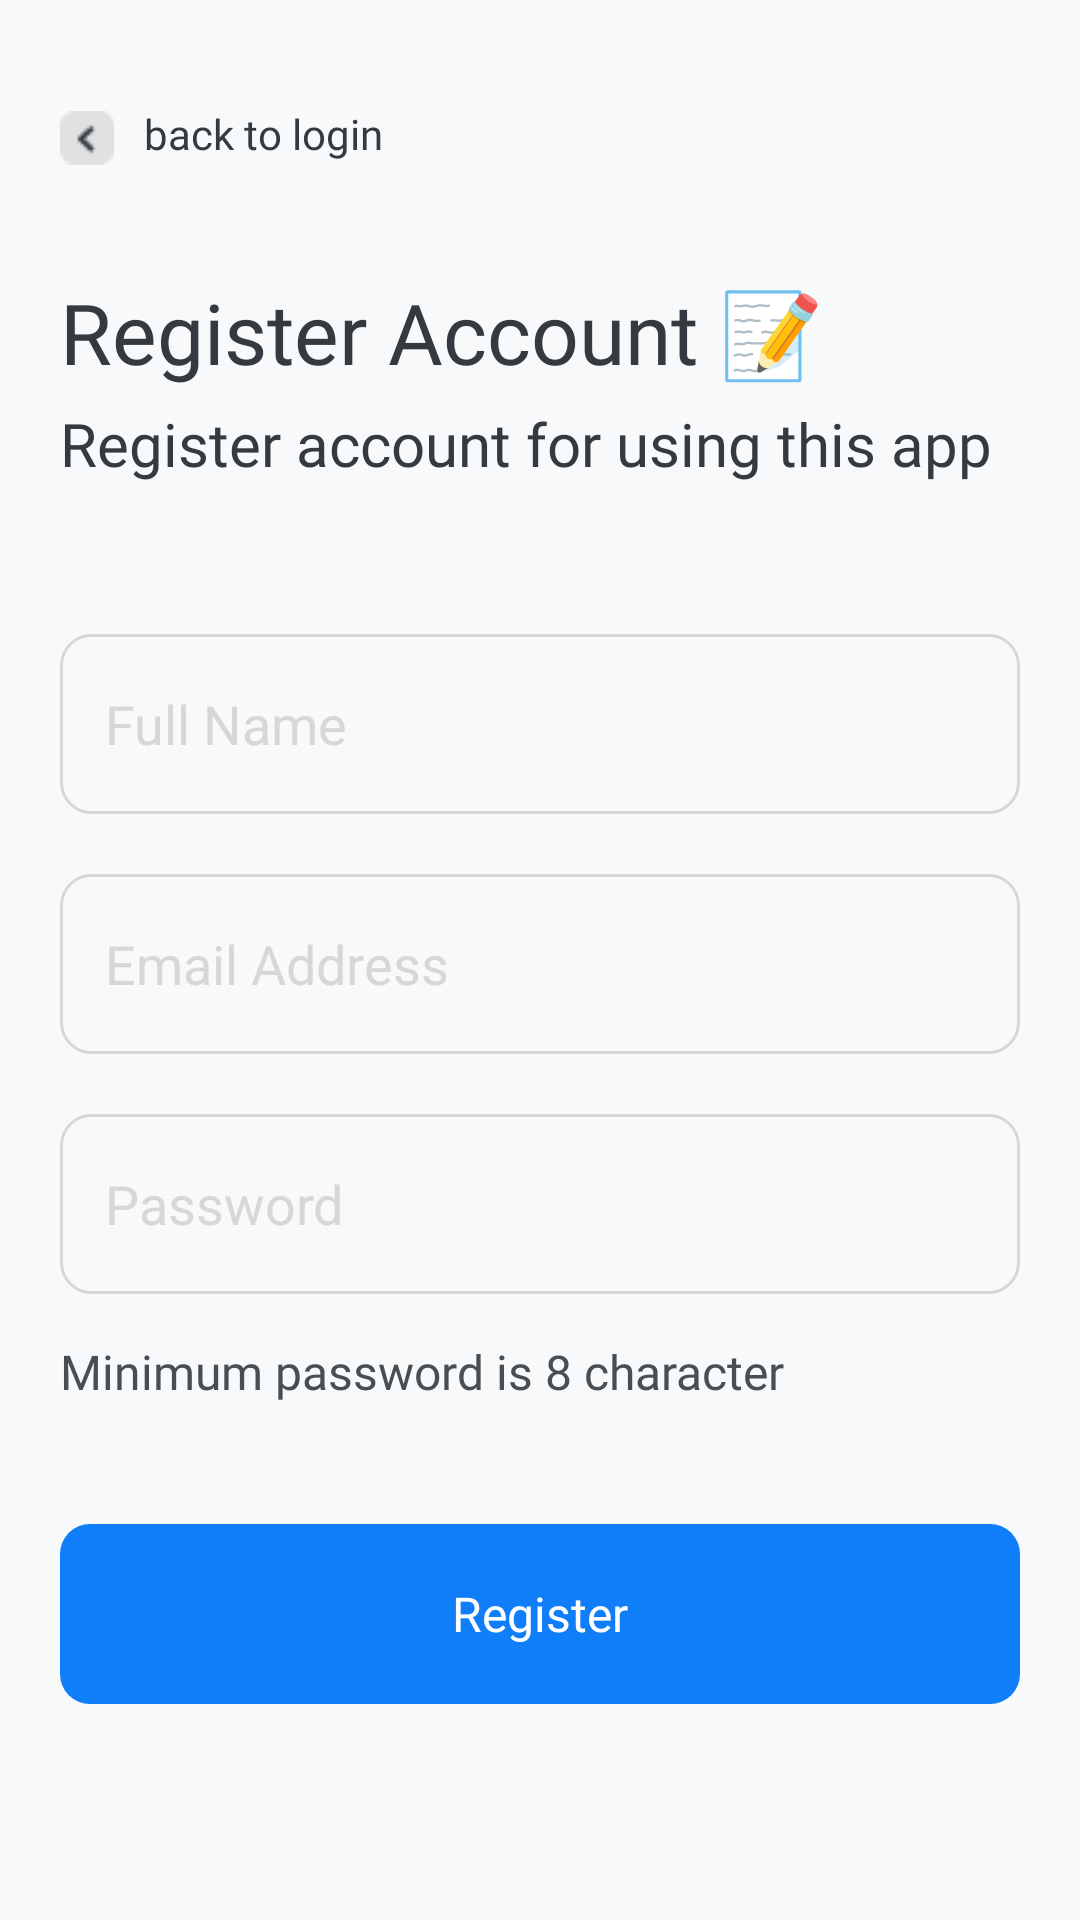

Icon click points for this 1080px×1920px phone screenshot, format [x,y]:
backicon: [87,138]
